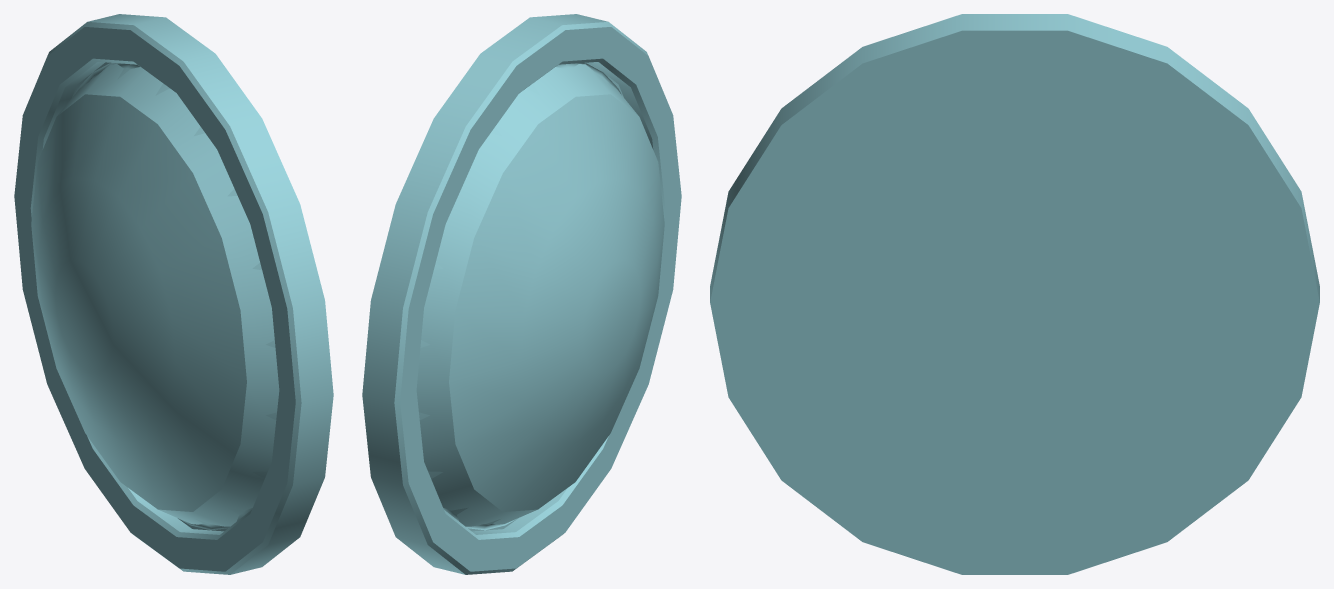
Rendered from LightSource.FBX.
3 renders of one model, left to right at view 1: azimuth 30°, elevation 25°; view 2: azimuth 150°, elevation 25°; view 3: azimuth 270°, elevation 25°, orthographic. The views are drawn at different scales.
Visible parts, largest first — view 1: Cylinder004, Object; view 2: Cylinder004, Object; view 3: Cylinder004.
Part boxes in pixels (x1,y1,x2,y2): Cylinder004: [14, 14, 333, 574]; Object: [74, 63, 276, 530]; Cylinder004: [362, 14, 681, 574]; Object: [419, 63, 621, 530]; Cylinder004: [710, 14, 1319, 574].
Bounding box in the file's own units: 9.92 × 45.49 × 46.19.
